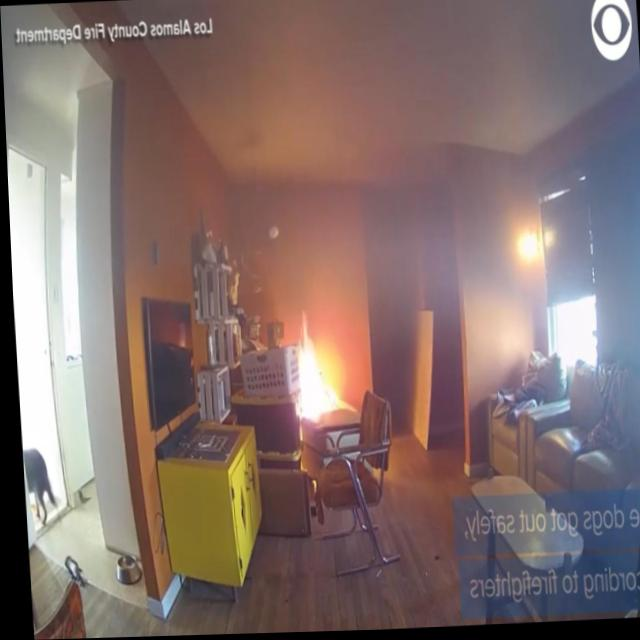fire: (285, 310, 348, 426)
